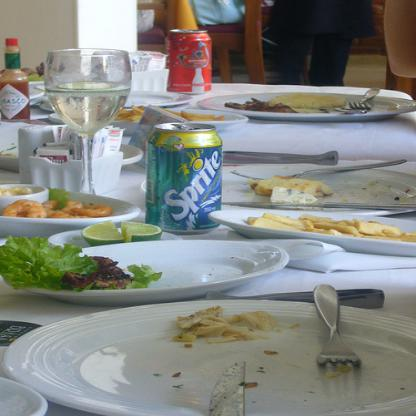bottle: (0, 36, 31, 120)
diningtable: (0, 82, 415, 416)
